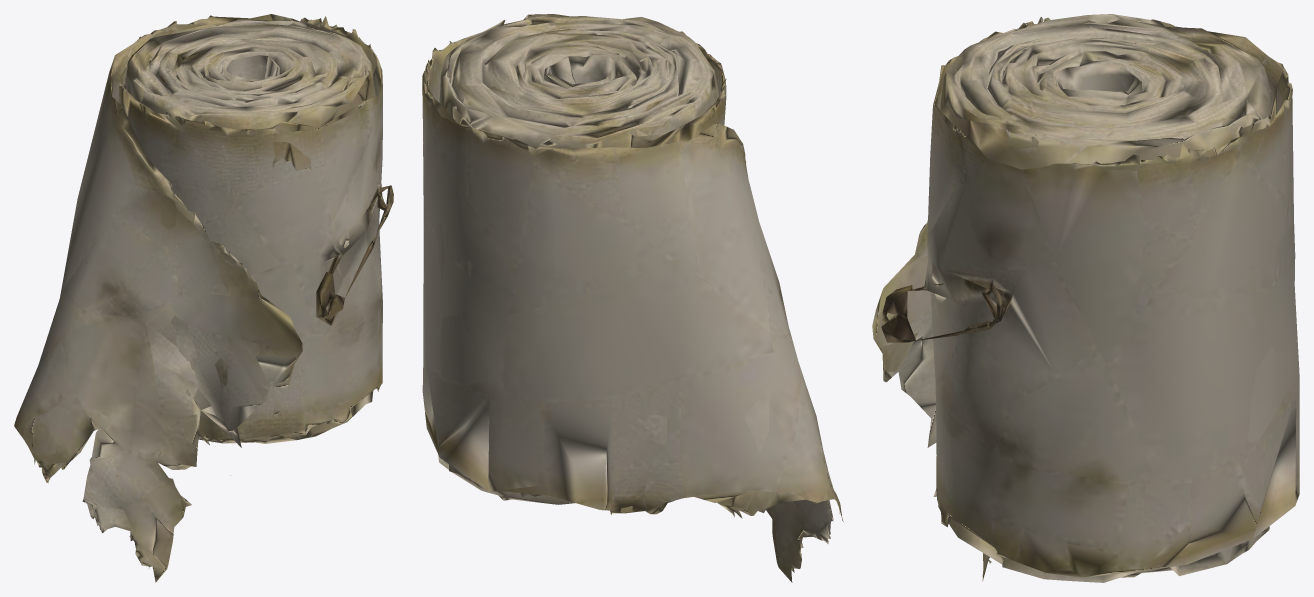
The model's file is bandage.b2e18a60.glb.
3 views of the same model, side by side, from view 1: azimuth 30°, elevation 25°; view 2: azimuth 150°, elevation 25°; view 3: azimuth 270°, elevation 25° (orthographic). The views are drawn at different scales.
Parts seen in each view (by area): view 1: item; view 2: item; view 3: item.
Boxes of the visible parts, box(x1,y1,x2,y2) form: item: box(14, 14, 393, 582); item: box(422, 14, 843, 582); item: box(872, 14, 1299, 582).
Bounding box in the file's own units: 0.063 × 0.0794 × 0.0514.
Materials: 1 (1 with a texture image).
